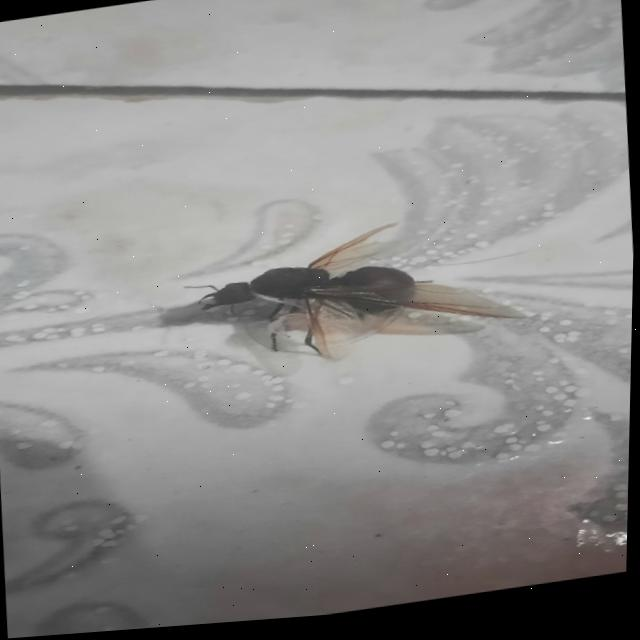Alive-Female-Alate: (180, 212, 531, 387)
